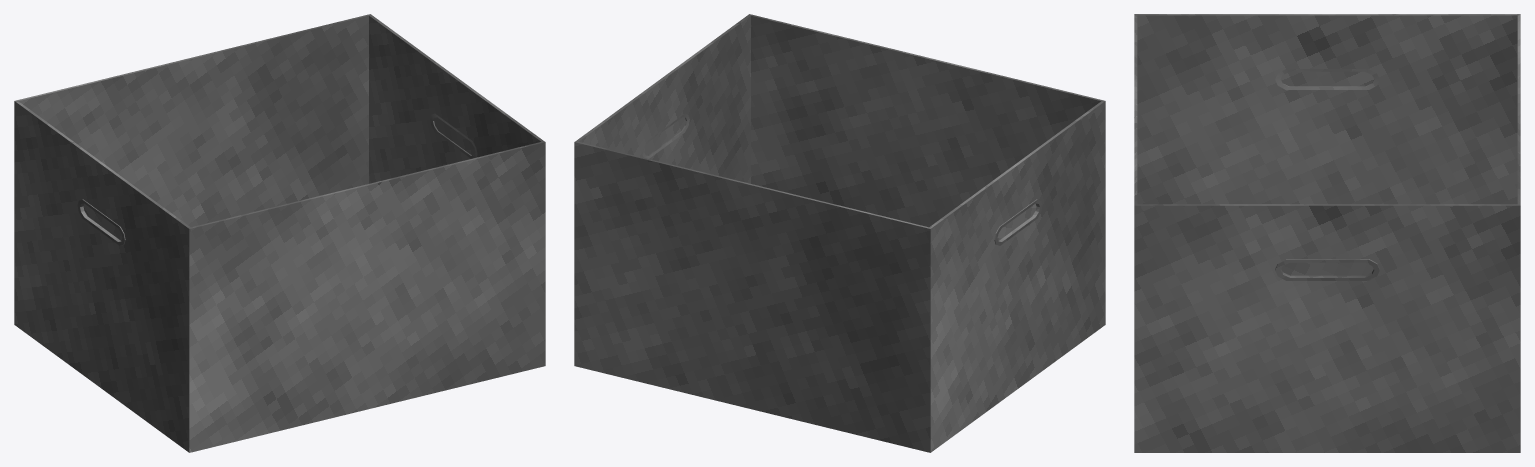
Rendered from CardboardCrateOpen.glb.
The picture shows the model from 3 angles, left to right: view 1: azimuth 30°, elevation 25°; view 2: azimuth 150°, elevation 25°; view 3: azimuth 270°, elevation 25°; orthographic projection. The views are drawn at different scales.
Parts seen in each view (by area): view 1: Box.001; view 2: Box.001; view 3: Box.001.
Part boxes in pixels (x1,y1,x2,y2): Box.001: (14,14,545,452); Box.001: (574,14,1105,452); Box.001: (1134,14,1520,452).
Bounding box in the file's own units: 2.01 × 1.2 × 1.7.
1 material, 1 textured.
